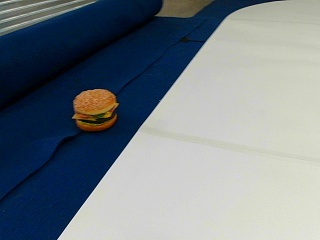burger: (72, 87, 118, 130)
